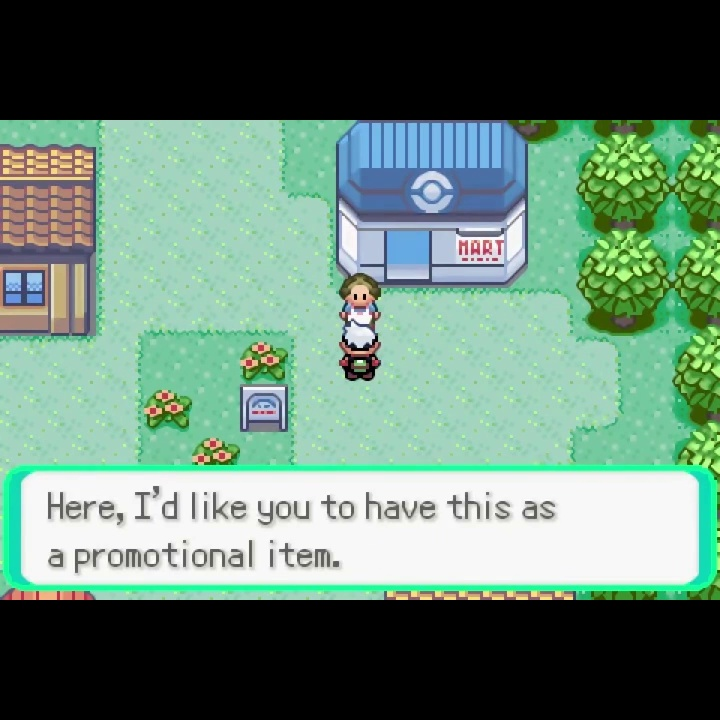house: (1, 141, 99, 342)
npc: (337, 319, 385, 384), (336, 268, 384, 326)
pokemart: (334, 120, 532, 289)
wall: (575, 229, 672, 335), (576, 133, 672, 231), (673, 230, 720, 338), (671, 323, 720, 424), (673, 133, 720, 232), (671, 420, 720, 465), (576, 120, 671, 141), (522, 120, 574, 145), (672, 120, 720, 141)
